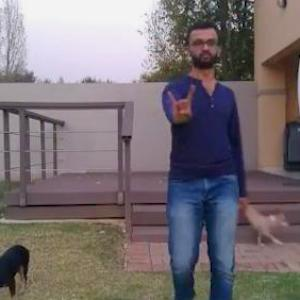takeoff-hand: (159, 77, 204, 130)
